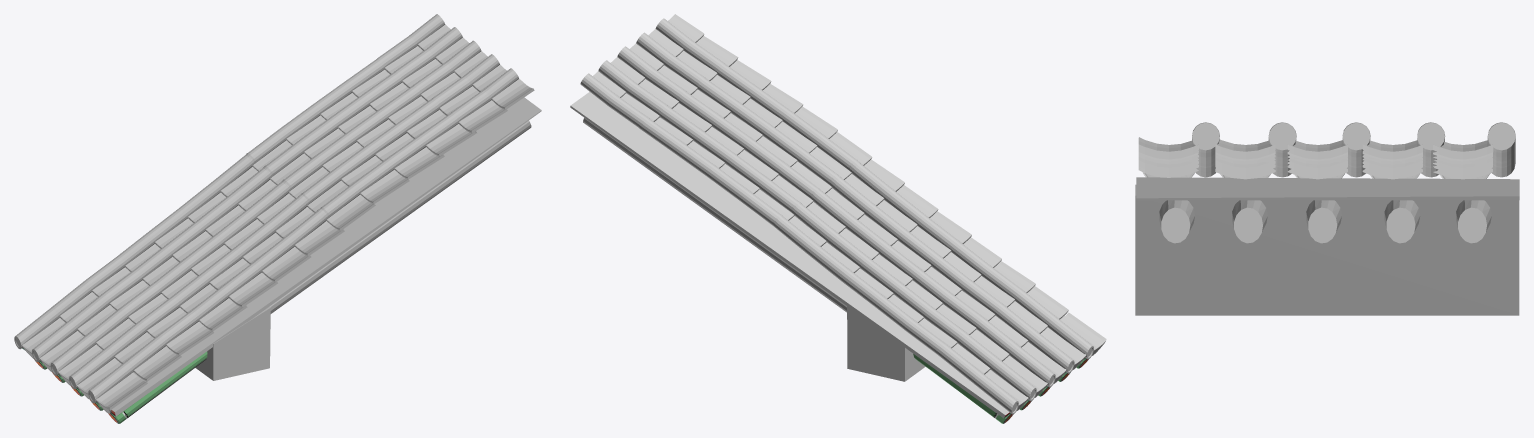
File: SM_Roof_16.fbx
3 views of the same model, side by side, from view 1: azimuth 30°, elevation 25°; view 2: azimuth 150°, elevation 25°; view 3: azimuth 270°, elevation 25° (orthographic). The views are drawn at different scales.
Visible parts, largest first — view 1: SM_Roof_16_LOD0; view 2: SM_Roof_16_LOD0; view 3: SM_Roof_16_LOD0.
Boxes of the visible parts, box(x1,y1,x2,y2) form: SM_Roof_16_LOD0: box(14, 14, 541, 423); SM_Roof_16_LOD0: box(570, 14, 1106, 423); SM_Roof_16_LOD0: box(1135, 122, 1519, 315).
Size of the model in its own units: 549 by 211 by 303.
